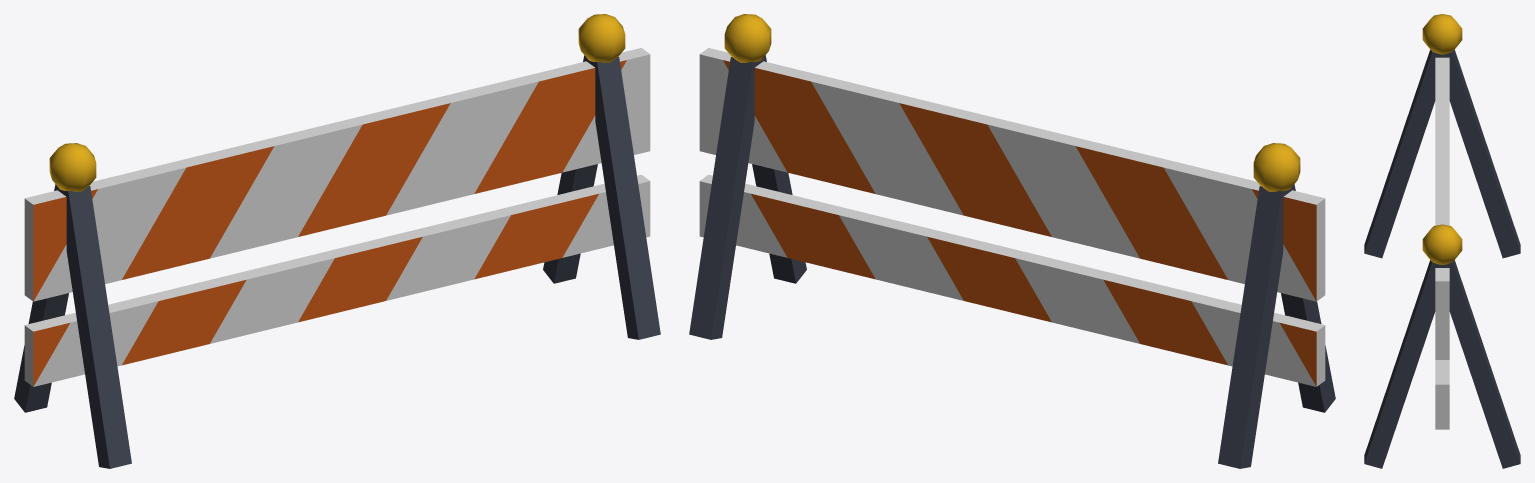
Rendered from valla.glb.
3 renders of one model, left to right at view 1: azimuth 30°, elevation 25°; view 2: azimuth 150°, elevation 25°; view 3: azimuth 270°, elevation 25°, orthographic. The views are drawn at different scales.
Parts seen in each view (by area): view 1: valla; view 2: valla; view 3: valla.
Part boxes in pixels (x1=…): valla: x1=14, y1=14, x2=660, y2=468; valla: x1=689, y1=14, x2=1335, y2=468; valla: x1=1364, y1=14, x2=1520, y2=468.
Size of the model in its own units: 2.8 by 1.27 by 0.7535.
